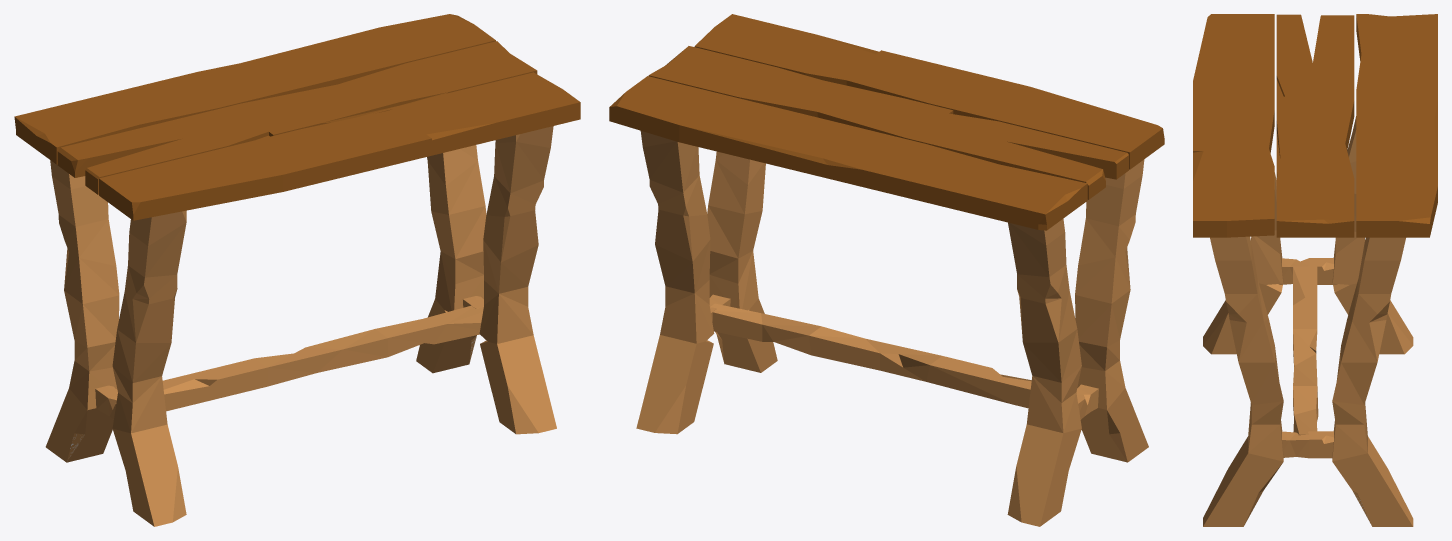
Rendered from Table.fbx.
3 renders of one model, left to right at view 1: azimuth 30°, elevation 25°; view 2: azimuth 150°, elevation 25°; view 3: azimuth 270°, elevation 25°, orthographic. The views are drawn at different scales.
Parts seen in each view (by area): view 1: Stol1_1, Group5, Group3, Group4, StolbNoga2, Group2; view 2: Stol1_1, Group4, Group2, Group5, StolbNoga2, Group3; view 3: Stol1_1, Group2, Group3, StolbNoga2, Group4, Group5, StolbNoga3, StolbNoga1.
Part boxes in pixels (bbox=[...]): Stol1_1: bbox=[14, 14, 580, 220]; Group5: bbox=[112, 210, 186, 526]; Group3: bbox=[479, 126, 556, 434]; Group4: bbox=[45, 160, 119, 462]; StolbNoga2: bbox=[162, 305, 483, 411]; Group2: bbox=[416, 145, 486, 373]; Stol1_1: bbox=[609, 14, 1164, 230]; Group4: bbox=[1007, 218, 1081, 526]; Group2: bbox=[636, 131, 714, 434]; Group5: bbox=[1075, 159, 1148, 462]; StolbNoga2: bbox=[710, 303, 1031, 408]; Group3: bbox=[707, 151, 777, 372]; Stol1_1: bbox=[1193, 14, 1437, 237]; Group2: bbox=[1332, 237, 1413, 526]; Group3: bbox=[1203, 236, 1283, 526]; StolbNoga2: bbox=[1293, 266, 1318, 435]; Group4: bbox=[1332, 116, 1413, 354]; Group5: bbox=[1203, 172, 1283, 354]; StolbNoga3: bbox=[1282, 431, 1333, 458]; StolbNoga1: bbox=[1278, 258, 1337, 284].
Bounding box in the file's own units: 1200 × 850 × 600.
